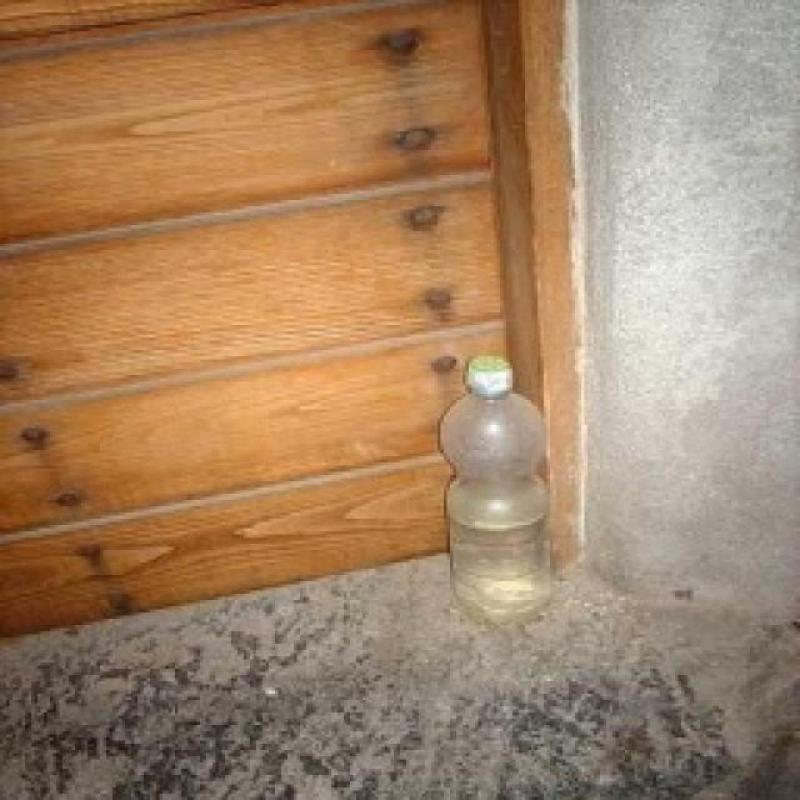botella: (439, 360, 561, 616)
